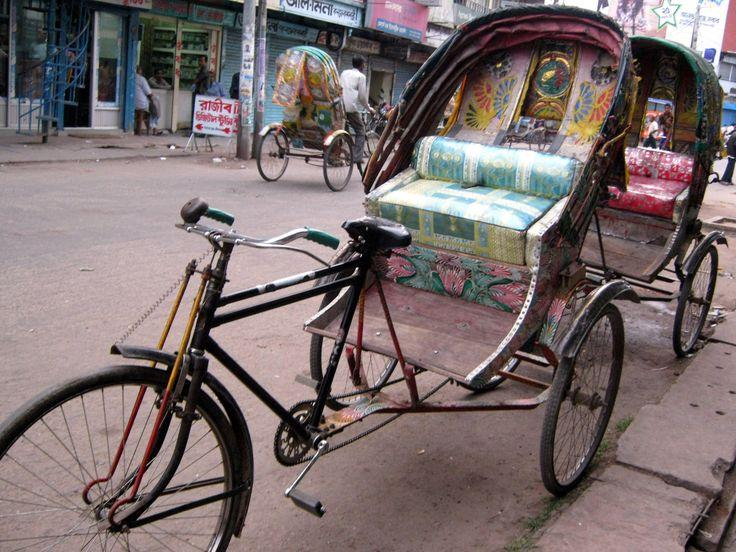Rickshaw: (0, 6, 634, 549), (582, 36, 725, 355), (256, 46, 352, 190)
